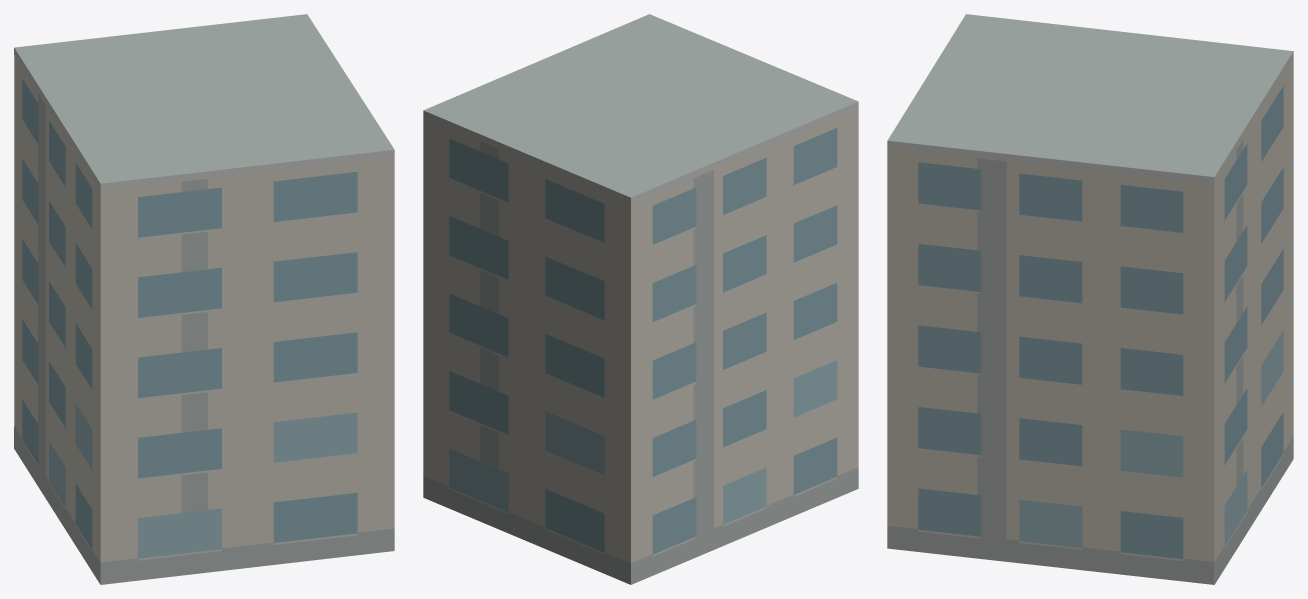
File: survey-upis-32536159.glb
3 views of the same model, side by side, from view 1: azimuth 30°, elevation 25°; view 2: azimuth 150°, elevation 25°; view 3: azimuth 270°, elevation 25° (orthographic). The views are drawn at different scales.
Visible parts, largest first — view 1: survey-upis-32536159.tmp; view 2: survey-upis-32536159.tmp; view 3: survey-upis-32536159.tmp.
Part boxes in pixels (<box>): survey-upis-32536159.tmp: <box>14,14,394,584</box>; survey-upis-32536159.tmp: <box>423,14,858,584</box>; survey-upis-32536159.tmp: <box>887,14,1293,584</box>.
Size of the model in its own units: 11.25 by 13.1 by 11.84.
